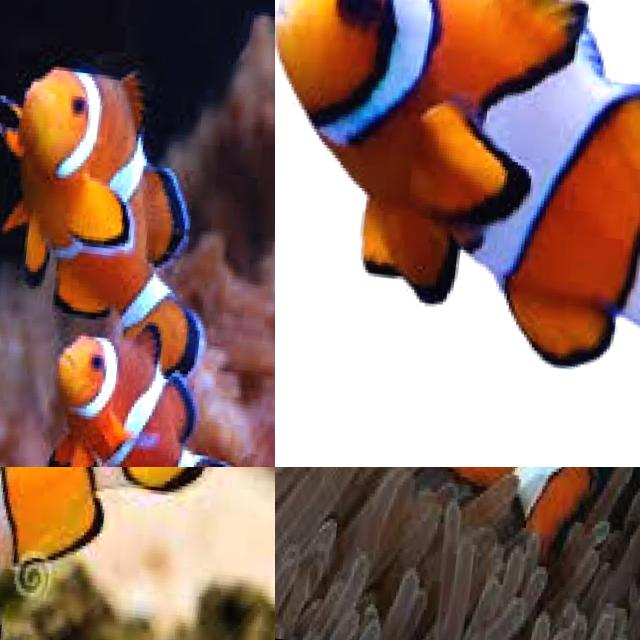Amphiprion-percula: (275, 0, 640, 462), (0, 43, 227, 345), (311, 467, 640, 640), (0, 303, 275, 467), (0, 467, 241, 640), (0, 467, 232, 640)
